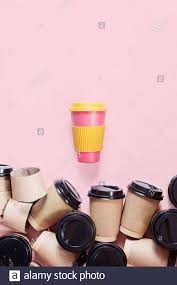paper: (28, 177, 81, 232), (117, 176, 160, 239), (84, 181, 124, 243), (28, 231, 80, 268), (6, 164, 50, 205), (119, 235, 172, 267), (1, 196, 35, 233), (1, 196, 35, 232)
